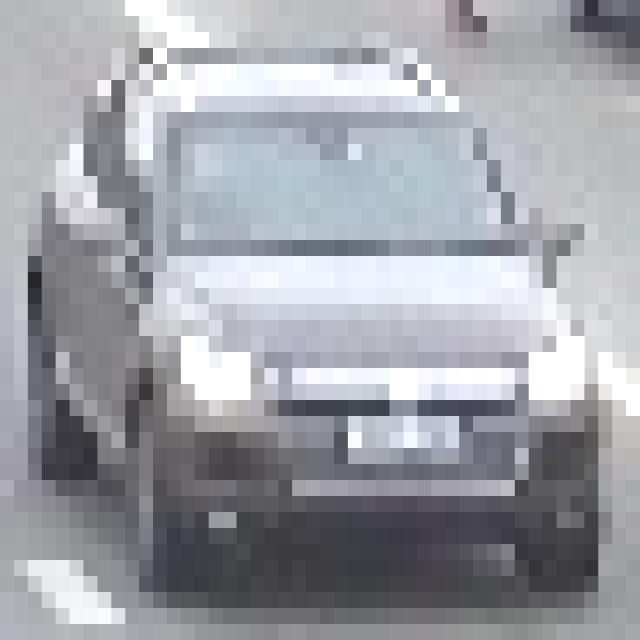SUV: (53, 61, 587, 574)
